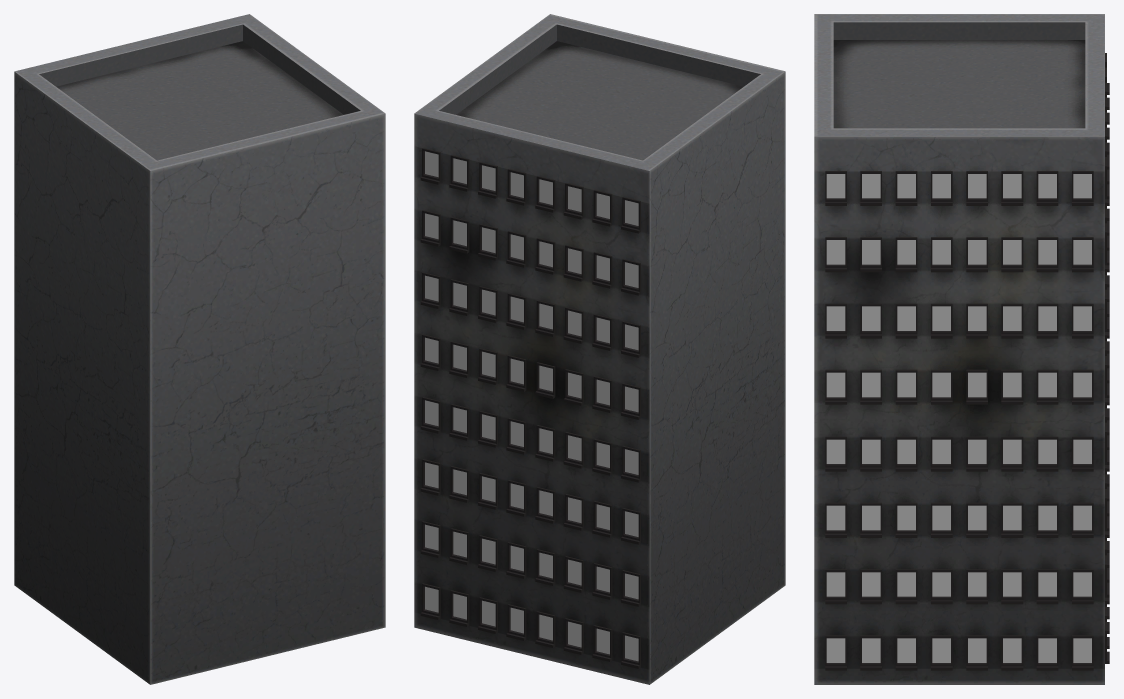
The model's file is Apocalypse_Skyscraper.fbx.
3 renders of one model, left to right at view 1: azimuth 30°, elevation 25°; view 2: azimuth 150°, elevation 25°; view 3: azimuth 270°, elevation 25°, orthographic. The views are drawn at different scales.
Parts seen in each view (by area): view 1: Apocalypse_Skyscraper; view 2: Apocalypse_Skyscraper; view 3: Apocalypse_Skyscraper.
Boxes of the visible parts, box(x1,y1,x2,y2) form: Apocalypse_Skyscraper: box(14, 14, 385, 684); Apocalypse_Skyscraper: box(414, 14, 785, 684); Apocalypse_Skyscraper: box(814, 14, 1109, 684).
Bounding box in the file's own units: 1.8 × 3.7 × 1.81.
